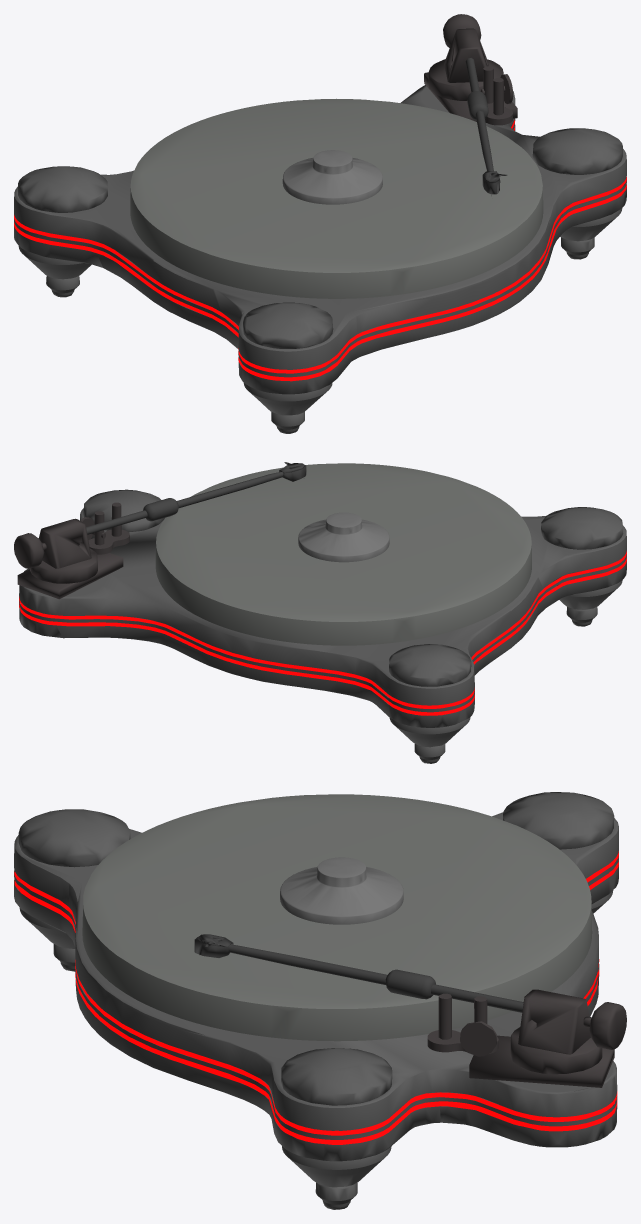
The model's file is turntable.glb.
3 views of the same model, one above another, from view 1: azimuth 30°, elevation 25°; view 2: azimuth 150°, elevation 25°; view 3: azimuth 270°, elevation 25° (orthographic). The views are drawn at different scales.
Parts seen in each view (by area): view 1: Cartridge, Stripes, Cap; view 2: Cartridge, Stripes, Cap; view 3: Cartridge, Stripes, Cap.
Boxes of the visible parts, x1=… form: Cartridge: x1=14, y1=14, x2=626, y2=433; Stripes: x1=14, y1=120, x2=626, y2=381; Cap: x1=282, y1=150, x2=382, y2=204; Cartridge: x1=14, y1=462, x2=626, y2=763; Stripes: x1=19, y1=551, x2=626, y2=715; Cap: x1=298, y1=512, x2=389, y2=562; Cartridge: x1=14, y1=792, x2=626, y2=1209; Stripes: x1=14, y1=851, x2=618, y2=1144; Cap: x1=280, y1=857, x2=403, y2=924.
Bounding box in the file's own units: 2.98 × 0.8926 × 2.51.
3 materials, 3 textured.
